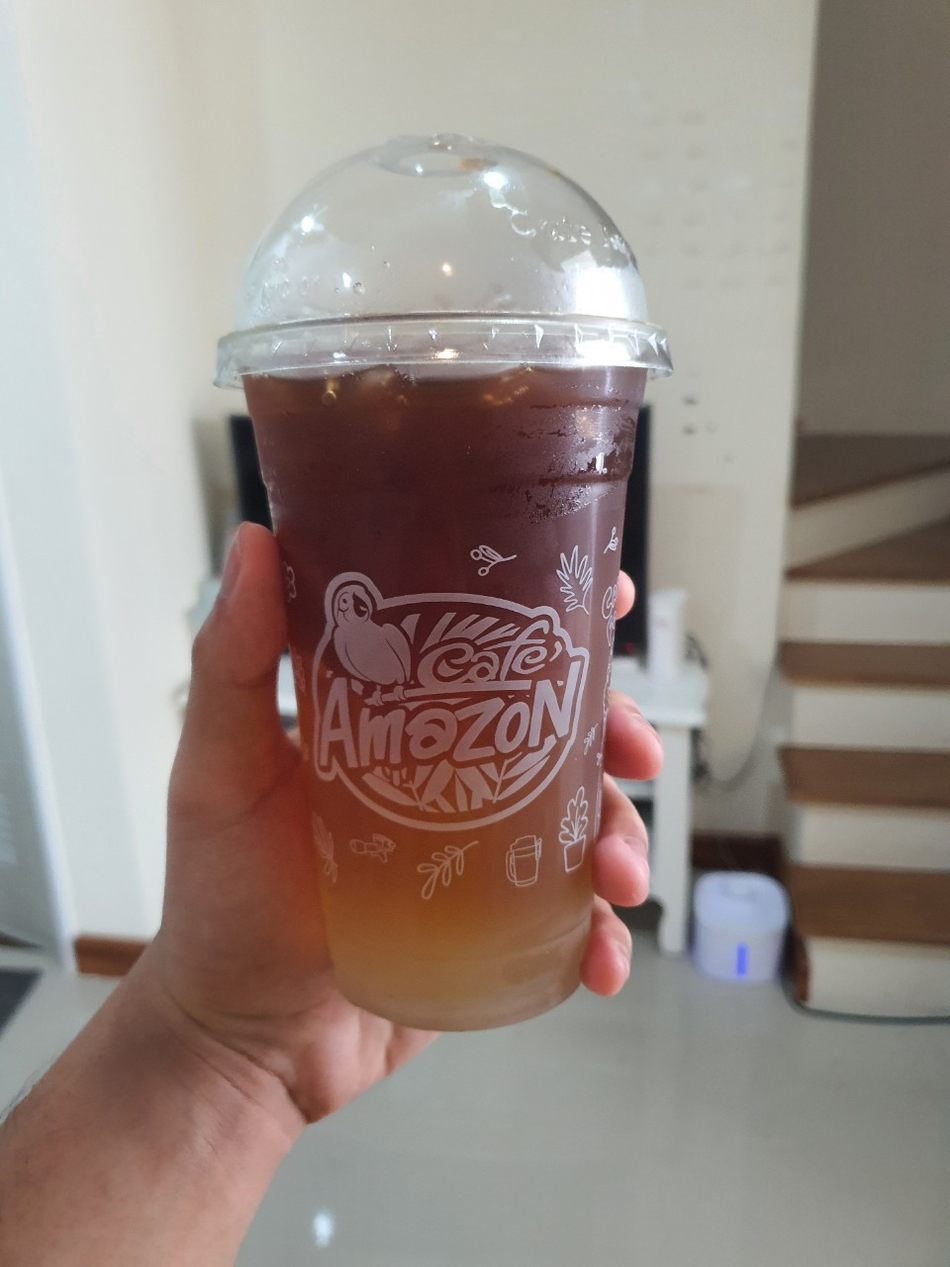plastic: (197, 102, 710, 1061)
